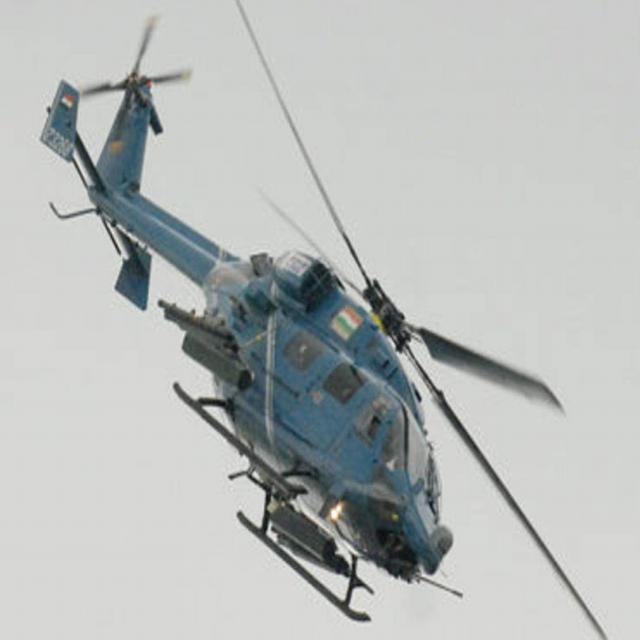helicopter: (41, 1, 611, 640)
